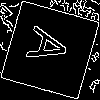A: (25, 24, 79, 72)
